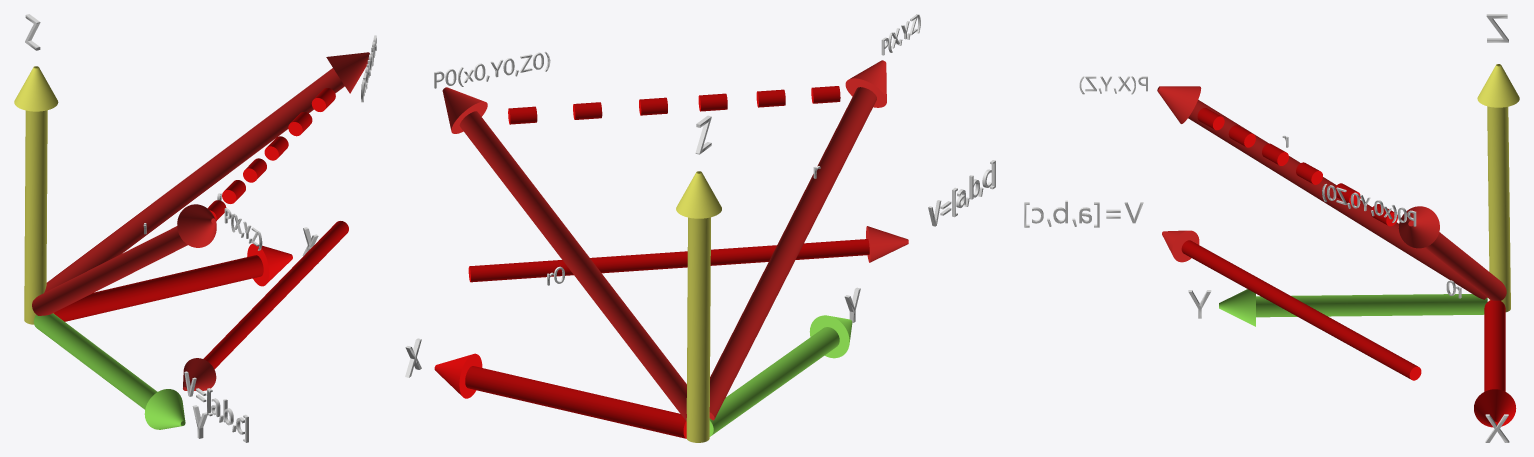
3 renders of one model, left to right at view 1: azimuth 30°, elevation 25°; view 2: azimuth 150°, elevation 25°; view 3: azimuth 270°, elevation 25°, orthographic. The views are drawn at different scales.
Parts seen in each view (by area): view 1: Cylinder.067, Cylinder.071, Cylinder.069, Cylinder.068, Cylinder.11, Cylinder.070, Cone.049, Cone.051, Cone.050, Cone.048, Cone.052, Cone.5 (+5 smaller); view 2: Cylinder.067, Cylinder.068, Cylinder.11, Cylinder.071, Cylinder.069, Cylinder.070, Cone.050, Cone.048, Cone.049, Cone.052, Cone.051, Cone.5; view 3: Cylinder.070, Cylinder.068, Cylinder.11, Cylinder.069, Cylinder.071, Cylinder.067, Cone.048, Cone.052, Cone.050, Cone.049, Cone.051, Cone.5.
Part boxes in pixels (x1,y1,x2,y2): Cylinder.067: (44, 68, 344, 292); Cylinder.071: (53, 255, 263, 321); Cylinder.069: (24, 110, 47, 324); Cylinder.068: (32, 226, 187, 315); Cylinder.11: (203, 221, 348, 369); Cylinder.070: (33, 313, 157, 409); Cone.049: (177, 204, 216, 247); Cone.051: (144, 389, 185, 429); Cone.050: (14, 66, 58, 111); Cone.048: (326, 52, 369, 93); Cone.052: (247, 243, 292, 286); Cone.5: (183, 358, 216, 390); Cylinder.067: (459, 111, 686, 421); Cylinder.068: (709, 87, 876, 420); Cylinder.11: (468, 239, 869, 282); Cylinder.071: (465, 366, 686, 438); Cylinder.069: (686, 217, 710, 442); Cylinder.070: (709, 327, 839, 436); Cone.050: (676, 171, 721, 218); Cone.048: (442, 87, 487, 133); Cone.049: (845, 60, 886, 107); Cone.052: (434, 353, 482, 398); Cone.051: (809, 315, 852, 358); Cone.5: (866, 226, 908, 262); Cylinder.070: (1256, 294, 1487, 317); Cylinder.068: (1188, 99, 1486, 299); Cylinder.11: (1181, 240, 1421, 380); Cylinder.069: (1487, 106, 1510, 312); Cylinder.071: (1484, 300, 1505, 391); Cylinder.067: (1409, 221, 1506, 300); Cone.048: (1398, 206, 1439, 248); Cone.052: (1474, 389, 1516, 427); Cone.050: (1477, 64, 1519, 107); Cone.049: (1157, 86, 1201, 123); Cone.051: (1219, 289, 1255, 326); Cone.5: (1162, 230, 1199, 262).
Size of the model in its own units: 0.1749 by 0.1603 by 0.234.
